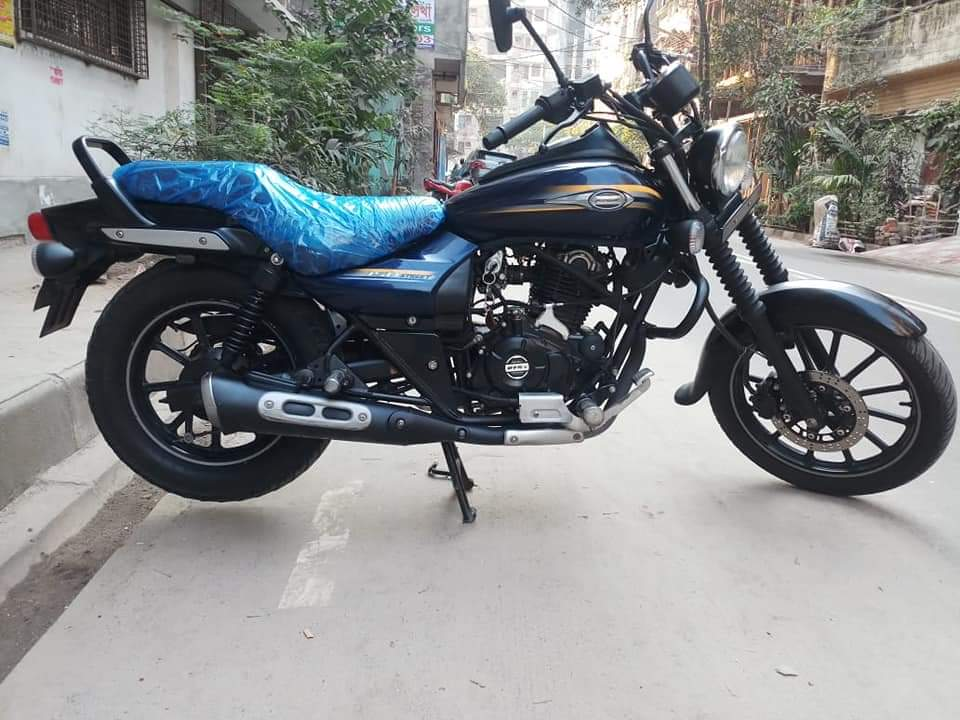bike: (32, 1, 955, 523)
